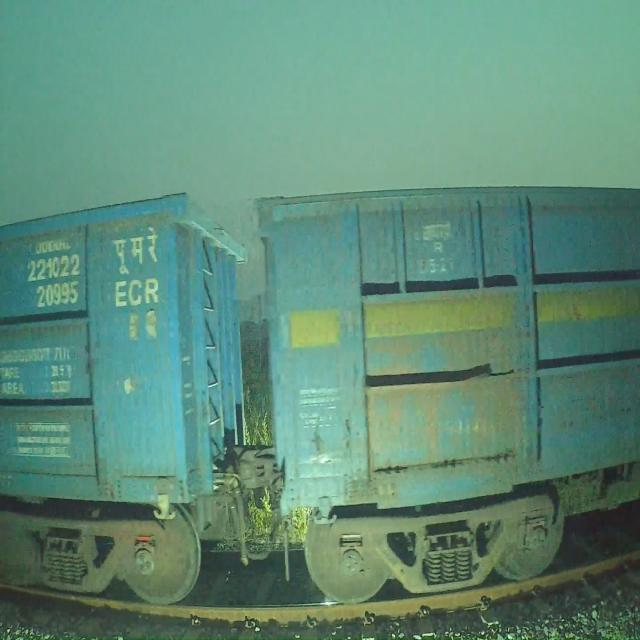WAgon-uic: (250, 181, 640, 610), (0, 187, 250, 613)
uic: (20, 248, 83, 312)
